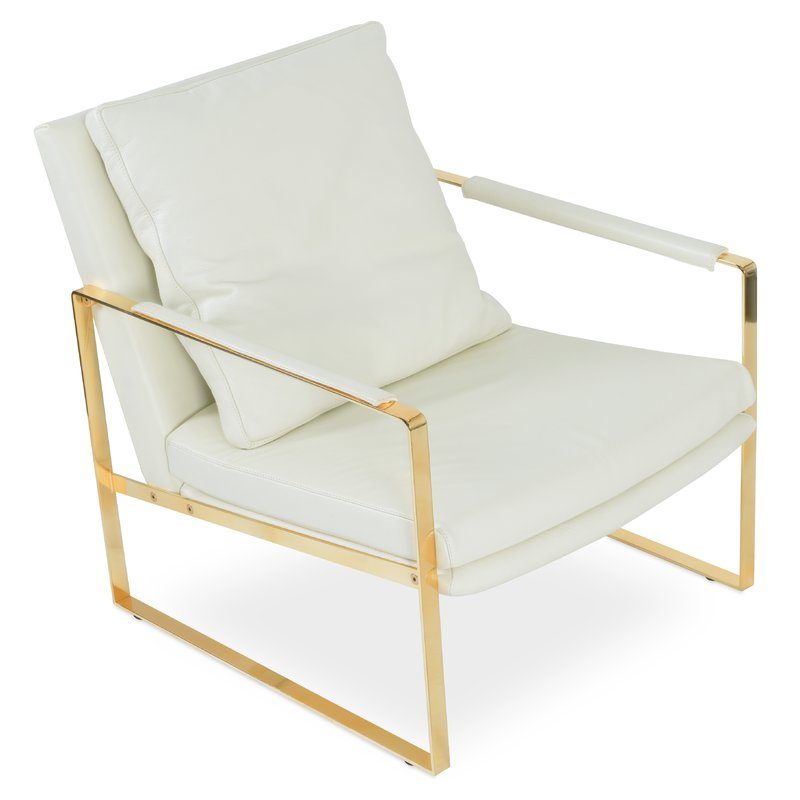chairs: (29, 21, 762, 777)
